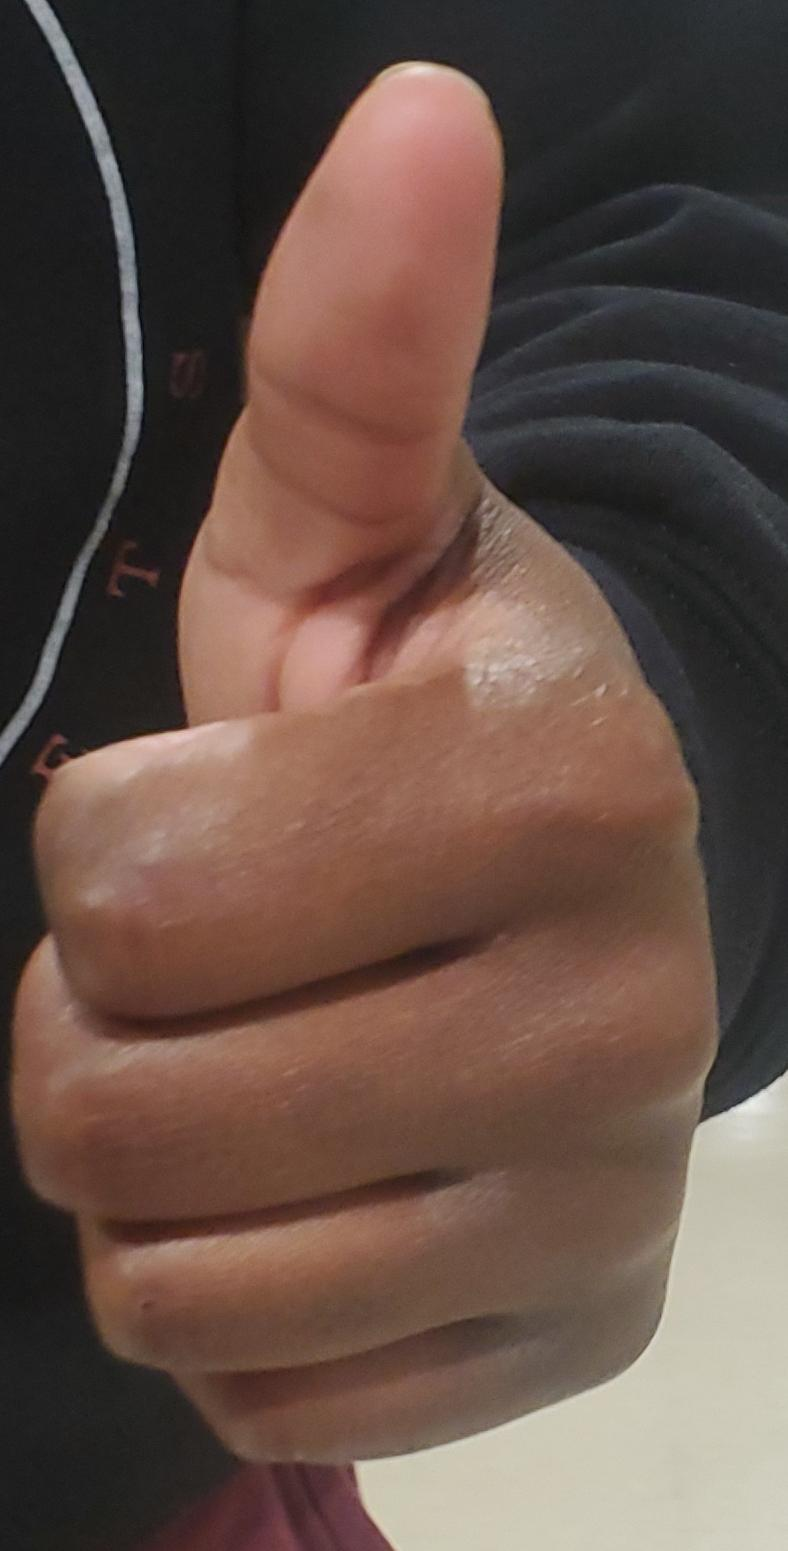up: (0, 1, 788, 1551)
